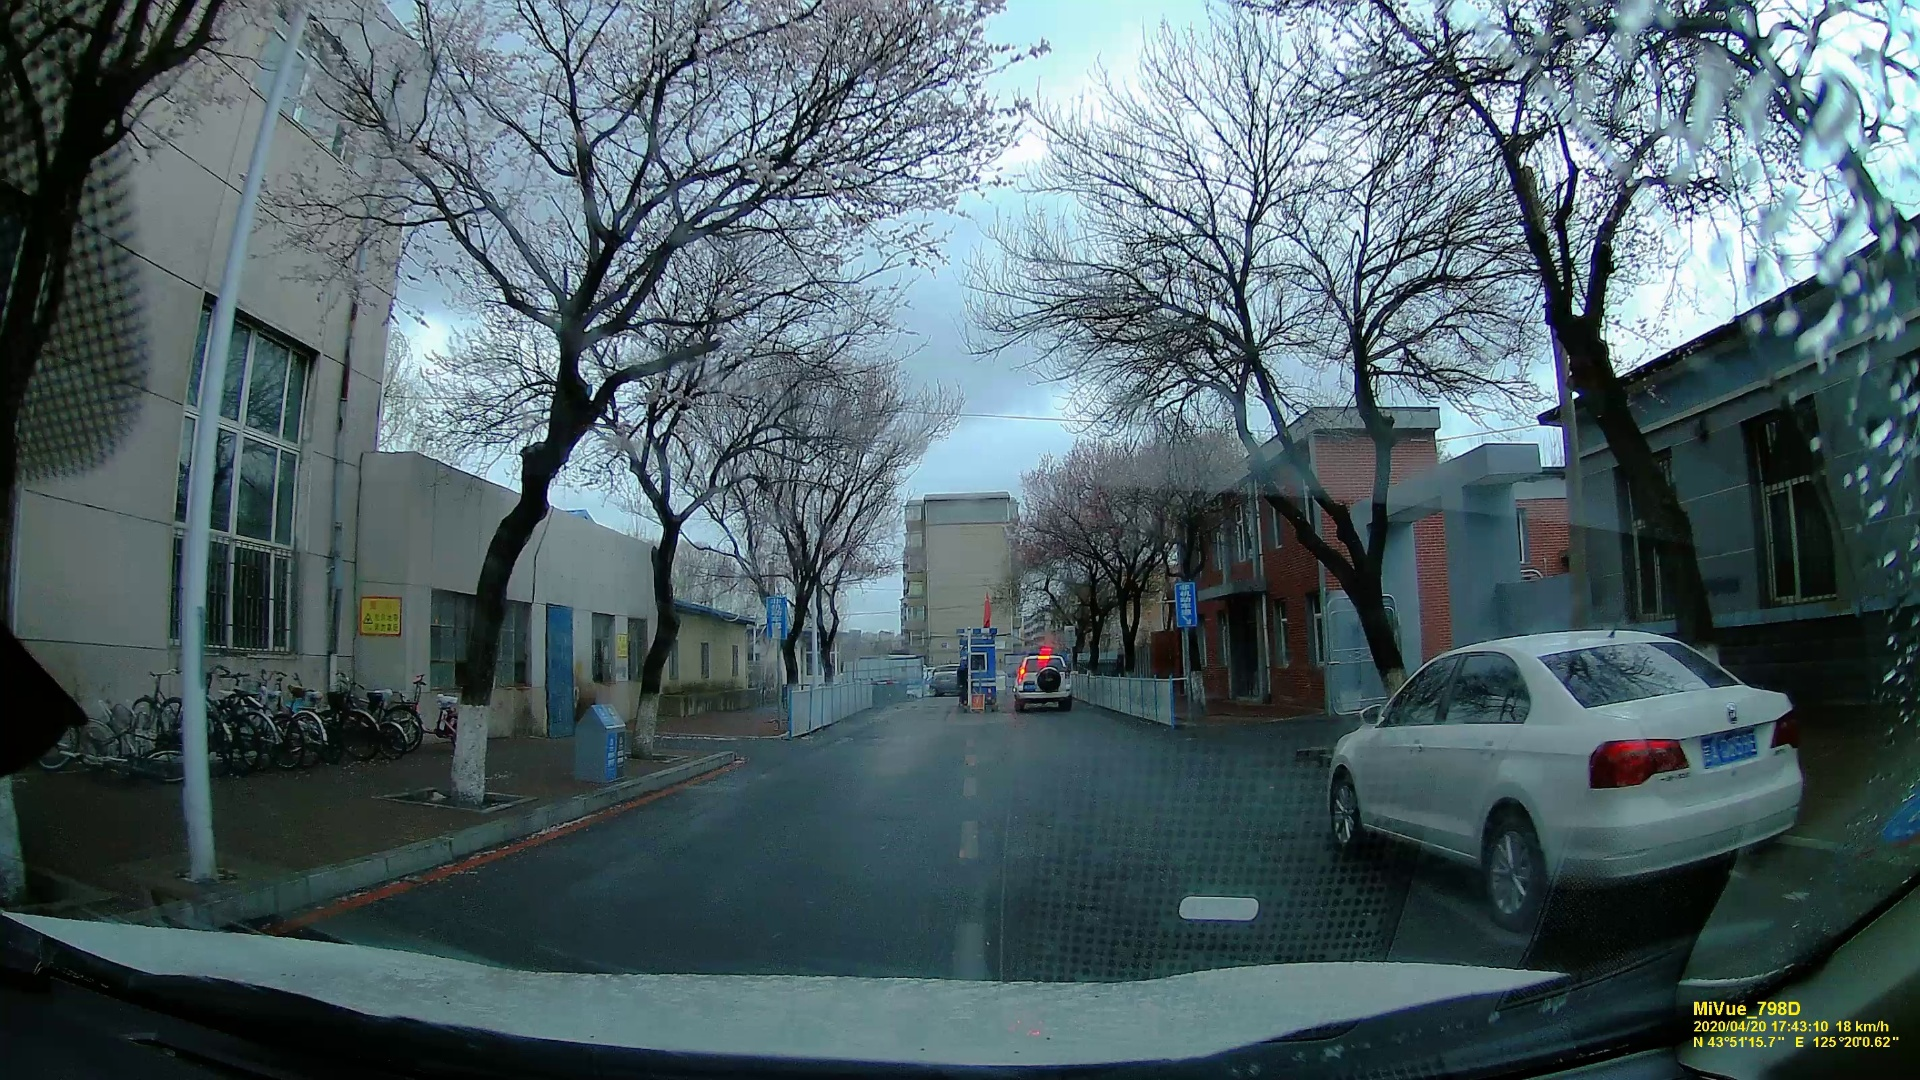traffic_sign: (357, 592, 402, 638), (765, 596, 789, 641)
vehicle: (1331, 620, 1809, 913), (1011, 651, 1073, 709)
